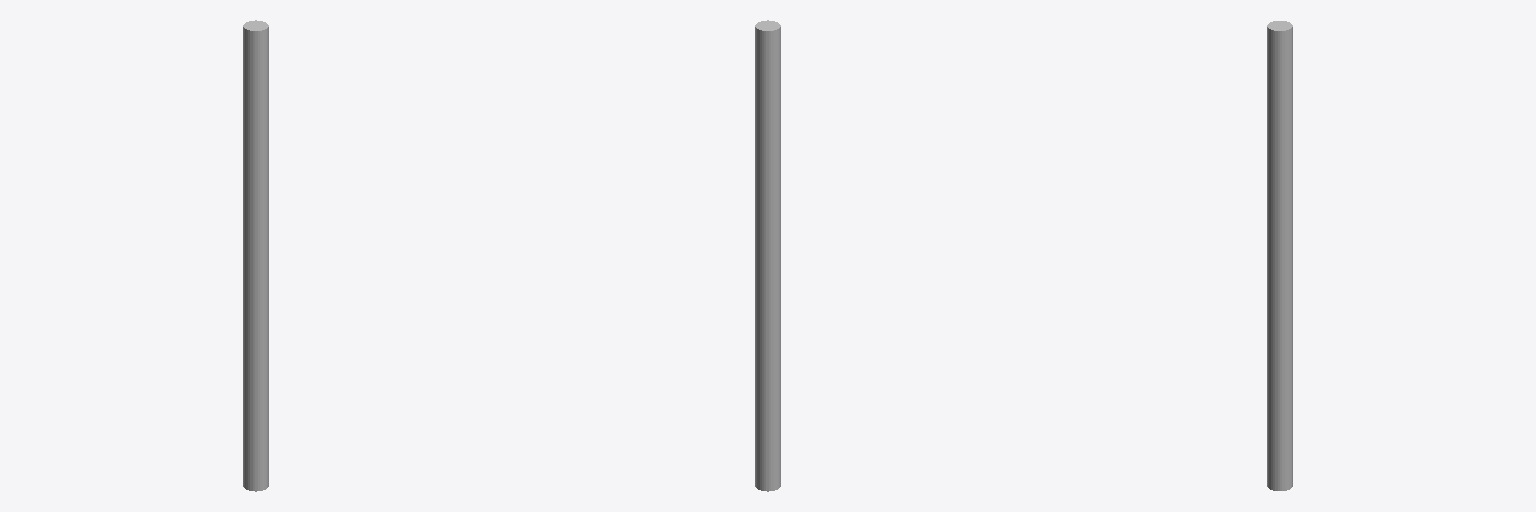
The robot description file, URDF, robot "043_phillips_screwdriver_composite":
<?xml version="1.0"?>
<robot name="043_phillips_screwdriver_composite">
  <link name="object">
    <visual>
      <origin xyz="0 0 0" rpy="0 0 0"/>
      <geometry>
        <!-- Handle from original mesh -->
        <mesh filename="/home/python/Desktop/LEAP_Hand_Sim/assets/043_phillips_screwdriver_berkeley_meshes/043_phillips_screwdriver/poisson/nontextured.stl" scale="1.0 1.0 1.0"/>
      </geometry>
      <material name="handle_material">
        <color rgba="0.6 0.3 0.1 1.0"/>
      </material>
    </visual>

    <!-- Add blade as a separate visual element -->
    <visual name="blade">
      <origin xyz="-0.002 0.005 0.15" rpy="0 0 0"/>
      <geometry>
        <cylinder radius="0.003" length="0.12"/>
      </geometry>
      <material name="blade_material">
        <color rgba="0.8 0.8 0.8 1.0"/>
      </material>
    </visual>

    <collision>
      <origin xyz="0 0 0" rpy="0 0 0"/>
      <geometry>
        <mesh filename="/home/python/Desktop/LEAP_Hand_Sim/assets/043_phillips_screwdriver_berkeley_meshes/043_phillips_screwdriver/poisson/nontextured.stl" scale="1.0 1.0 1.0"/>
      </geometry>
    </collision>

    <!-- Add blade collision -->
    <collision name="blade_collision">
      <origin xyz="-0.002 0.005 0.15" rpy="0 0 0"/>
      <geometry>
        <cylinder radius="0.003" length="0.12"/>
      </geometry>
    </collision>

    <inertial>
      <origin xyz="0 0 0.12" rpy="0 0 0"/>
      <mass value="0.12" />
      <!-- Inertia tensor for composite screwdriver with heavier metal blade -->
      <!-- Mass center shifted toward blade due to steel being ~6x denser than plastic handle -->
      <inertia 
        ixx="0.0012" ixy="0.0" ixz="0.0" 
        iyy="0.0012" iyz="0.0" 
        izz="0.00003"/>
    </inertial>
  </link>
</robot>

--- Render facts (derived) ---
The picture shows the robot from 3 angles, left to right: view 1: azimuth 30°, elevation 25°; view 2: azimuth 150°, elevation 25°; view 3: azimuth 270°, elevation 25°; orthographic projection.
Model 043_phillips_screwdriver_composite with 1 links and 0 joints (none), rooted at object, posed all joints at 0.
Links seen in each view (by area): view 1: object; view 2: object; view 3: object.
Boxes of the visible links, bbox=[...] form: object: bbox=[243, 20, 268, 491]; object: bbox=[755, 20, 780, 491]; object: bbox=[1267, 21, 1292, 490].
Bounding box of the posed robot: 0.006 × 0.006 × 0.12 m (x, y, z).
Geometry: only primitive shapes (box / cylinder / sphere) drawn; not drawn: 1 mesh visual (reference in a form the renderer does not follow).
